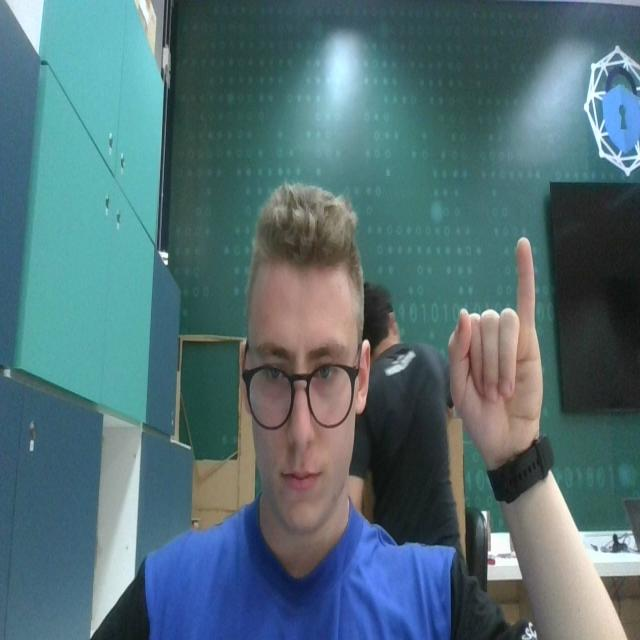I: (446, 235, 545, 444)
